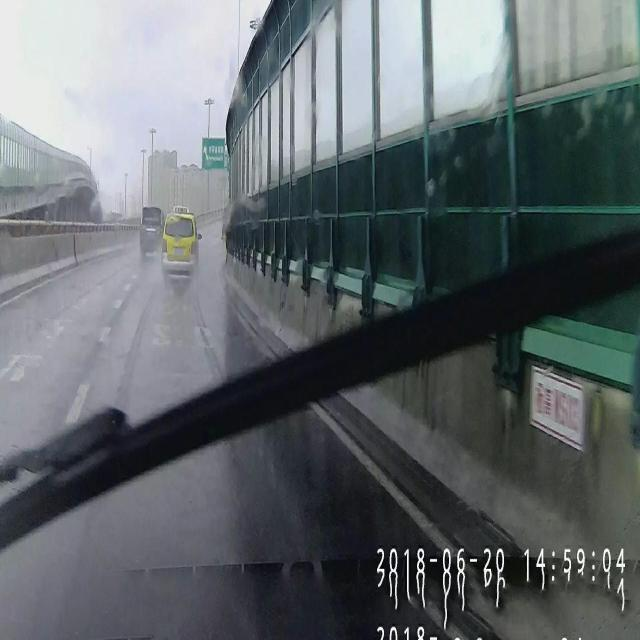car: (164, 206, 201, 281), (140, 207, 164, 263)
